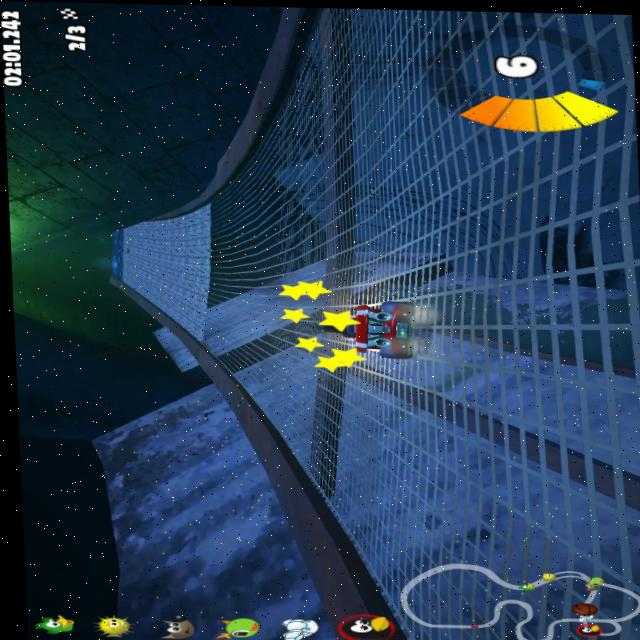player_kart: (324, 294, 423, 362)
track: (320, 12, 638, 246), (394, 355, 640, 640), (110, 235, 640, 291), (434, 283, 640, 360), (326, 362, 381, 575), (248, 78, 325, 196), (373, 364, 399, 604), (211, 194, 335, 241), (214, 349, 328, 390), (133, 280, 292, 309), (194, 307, 292, 349), (286, 391, 333, 452), (147, 219, 209, 237), (264, 386, 290, 417), (305, 452, 331, 478), (175, 204, 218, 217), (176, 307, 195, 322)
